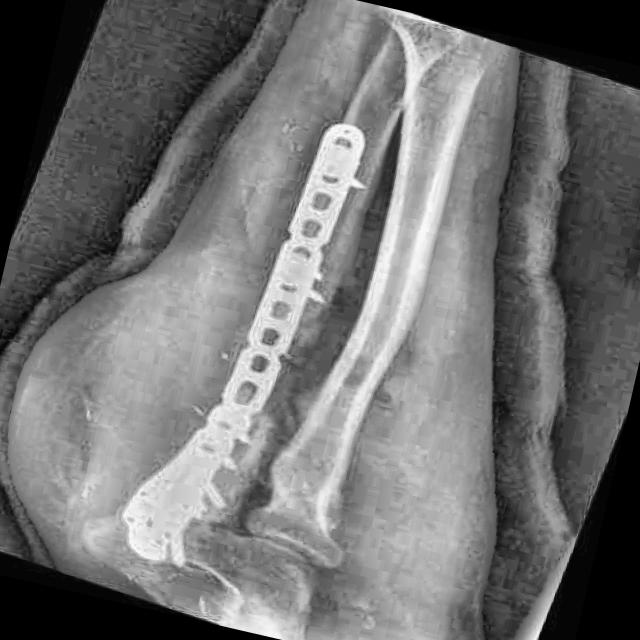elbow positive: (237, 311, 335, 477)
